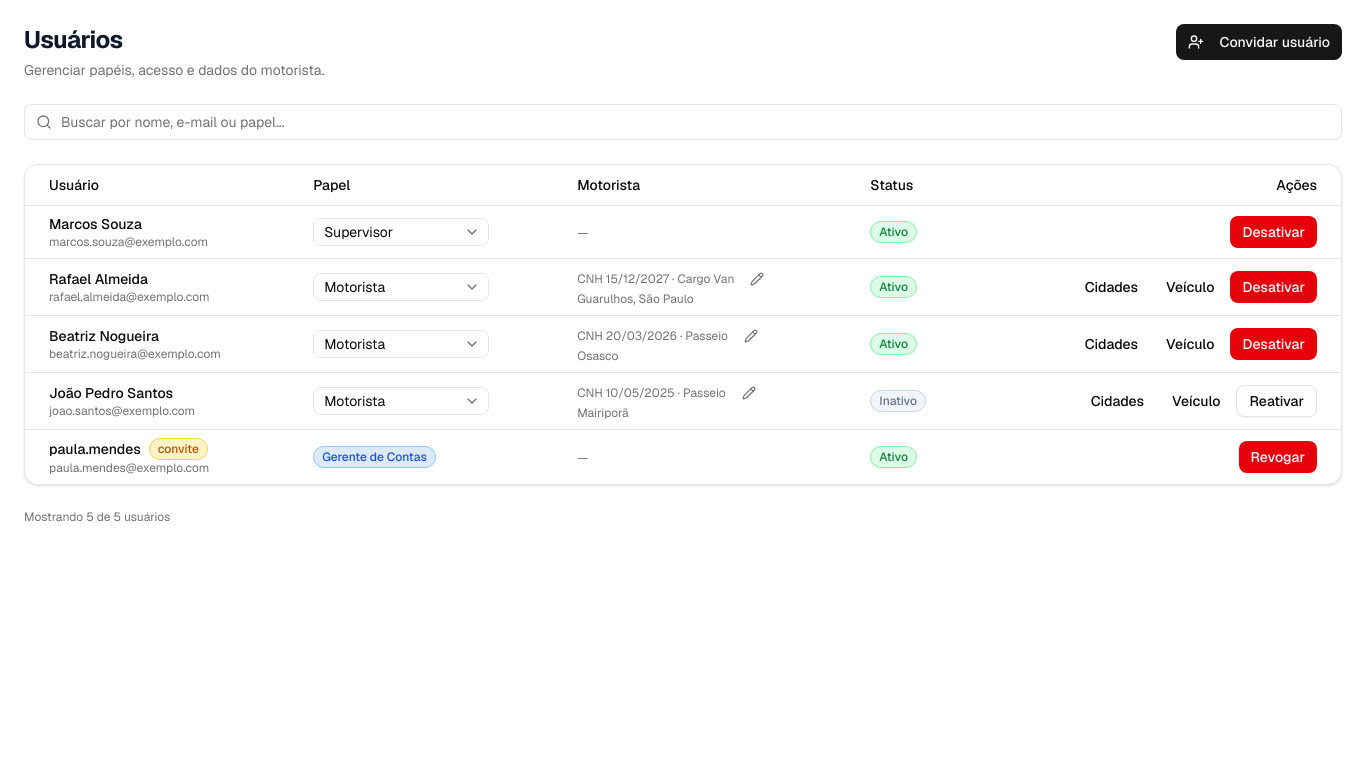
Test: UserManagementClient — ações destrutivas acessíveis › ConfirmDialog de revogação diz claramente o que vai acontecer e com quem
Step 1. Click the button with aria-label "Revogar convite de paula.mendes@exemplo.com" → click(1278, 456), box [1238, 440, 1317, 472]
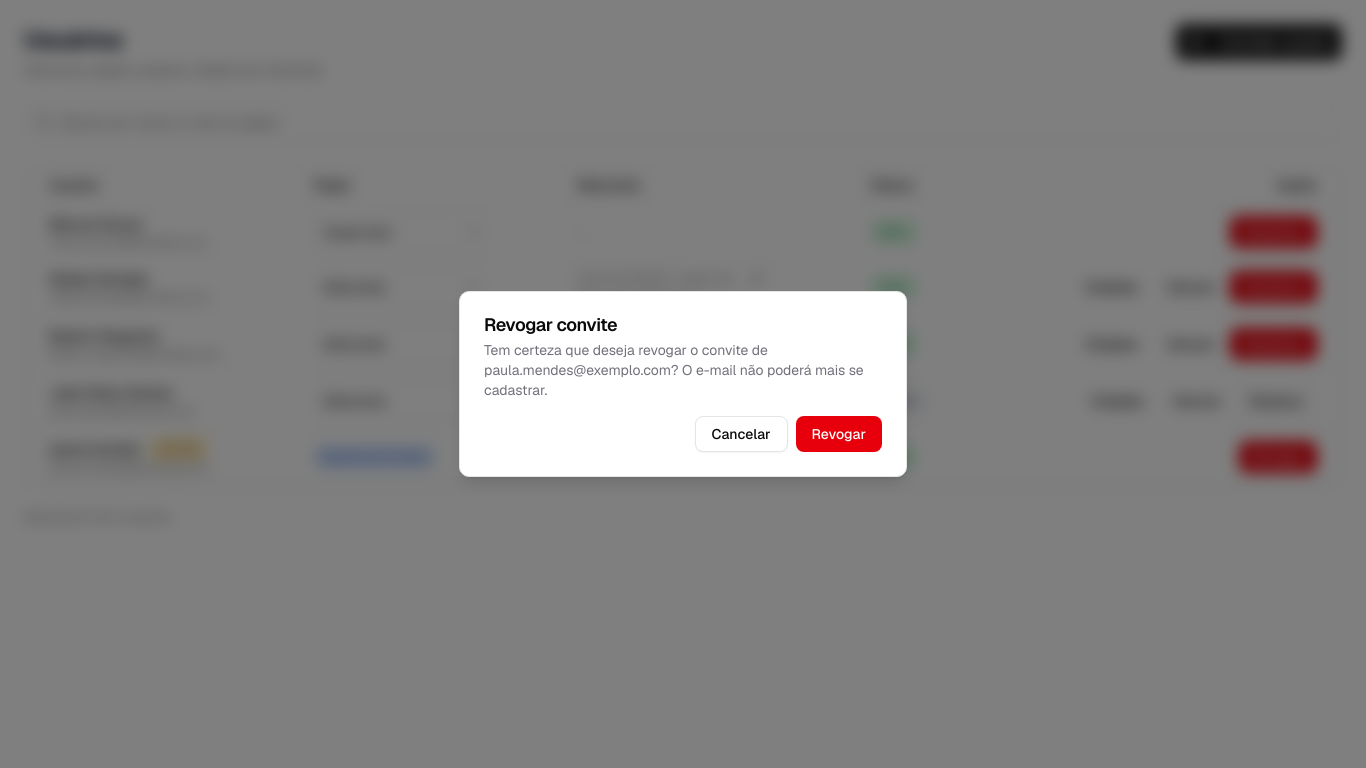
Expected: the heading "Revogar convite" is shown, [484, 313, 617, 336]
Expected: the text "não poderá mais se cadastrar" is shown, [484, 341, 864, 399]
